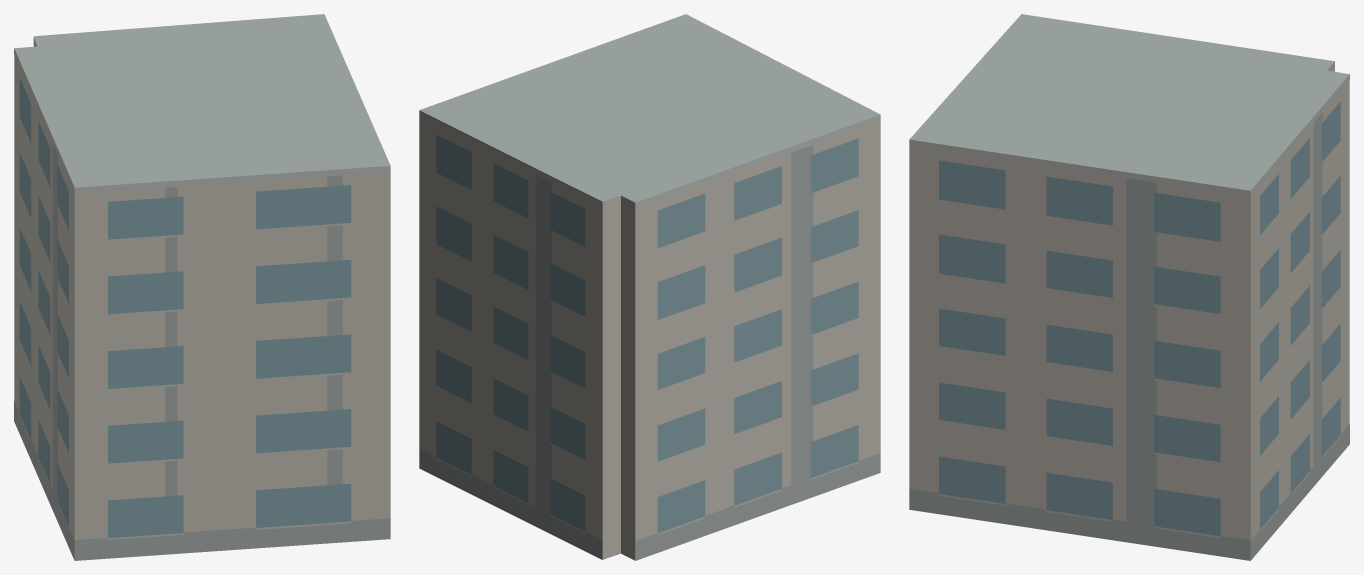
The model's file is survey-upis-32854253.glb.
3 views of the same model, side by side, from view 1: azimuth 30°, elevation 25°; view 2: azimuth 150°, elevation 25°; view 3: azimuth 270°, elevation 25° (orthographic). The views are drawn at different scales.
Parts seen in each view (by area): view 1: survey-upis-32854253.tmp; view 2: survey-upis-32854253.tmp; view 3: survey-upis-32854253.tmp.
Boxes of the visible parts, x1=… form: survey-upis-32854253.tmp: x1=14, y1=14, x2=390, y2=560; survey-upis-32854253.tmp: x1=419, y1=14, x2=880, y2=560; survey-upis-32854253.tmp: x1=909, y1=14, x2=1349, y2=560.
Size of the model in its own units: 14.55 by 14.2 by 15.32.
